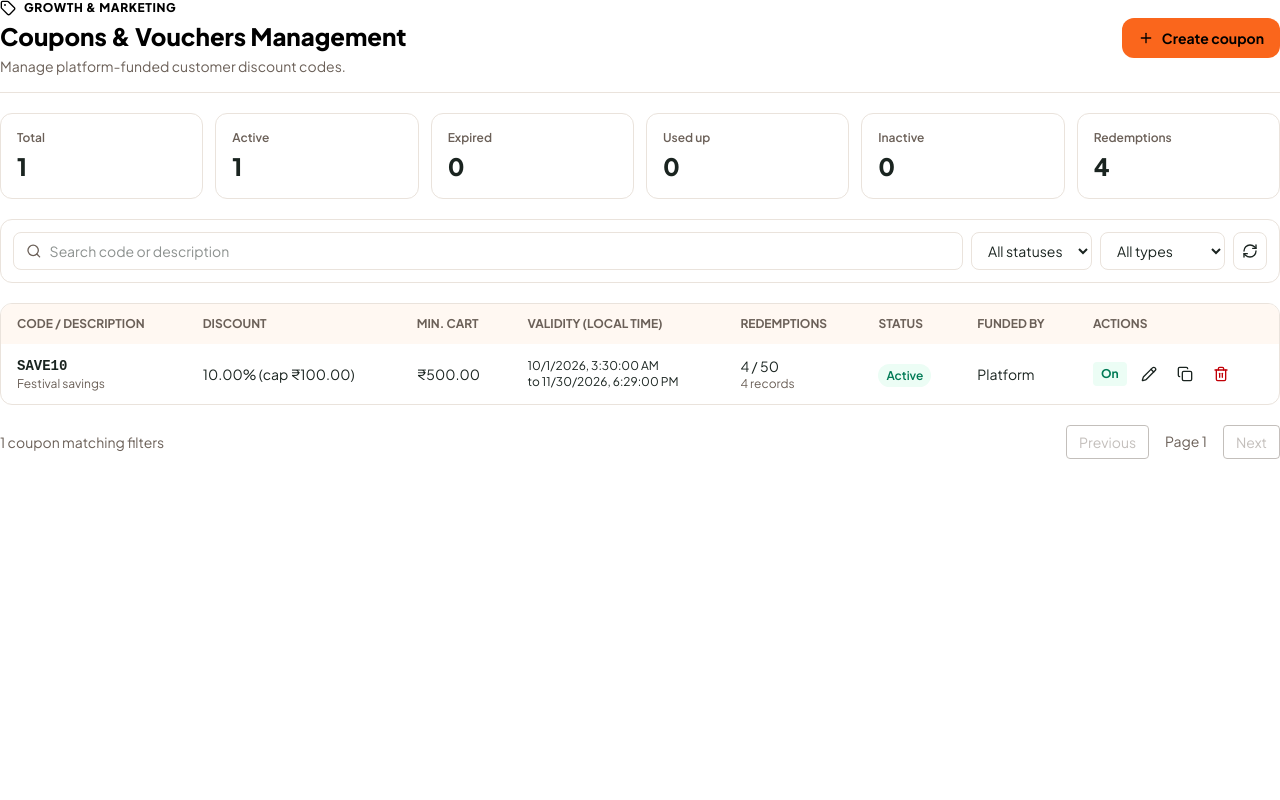
Test: CouponManagementModule › edits with writable fields only and excludes server-owned response fields
Click the button named "Edit SAVE10": (1148, 374) [1134,360,1162,388]
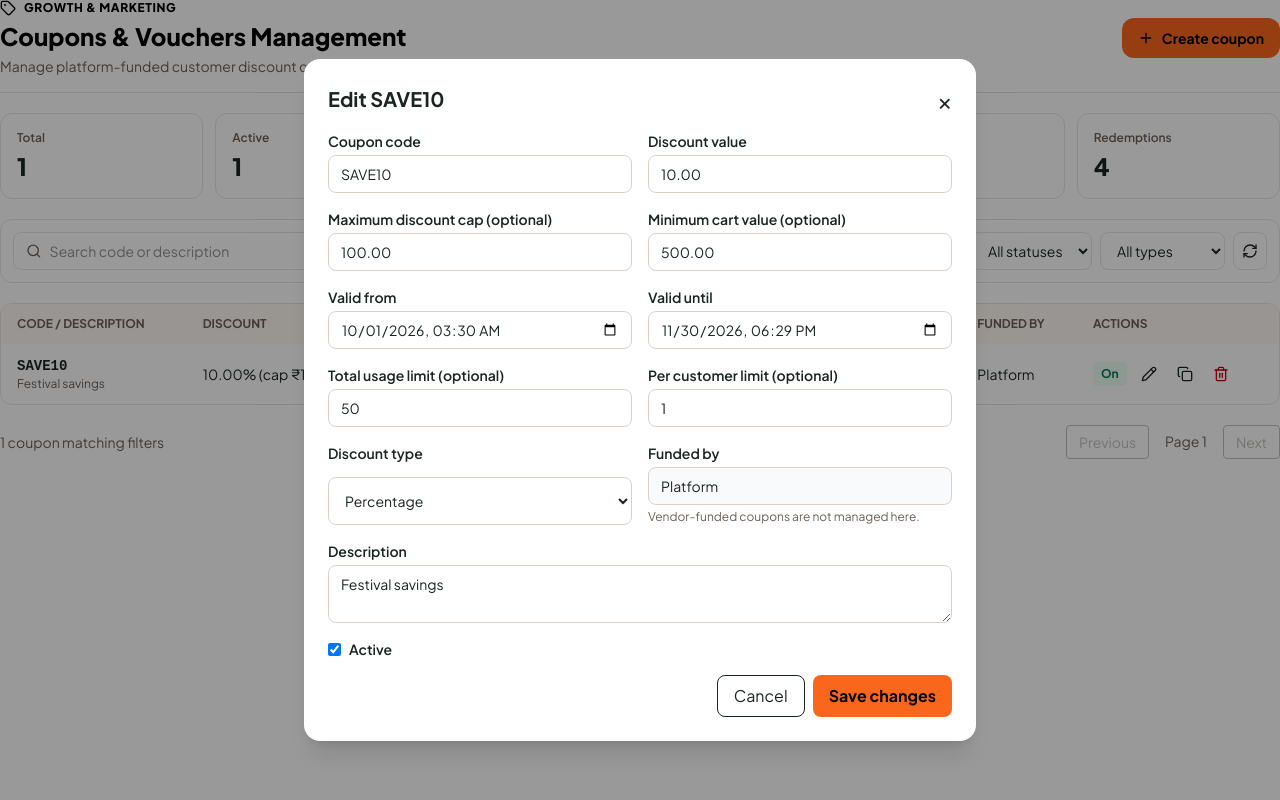
Replace the text in the text box labelled "Description" with "Updated offer": (640, 594) [328,565,952,623]
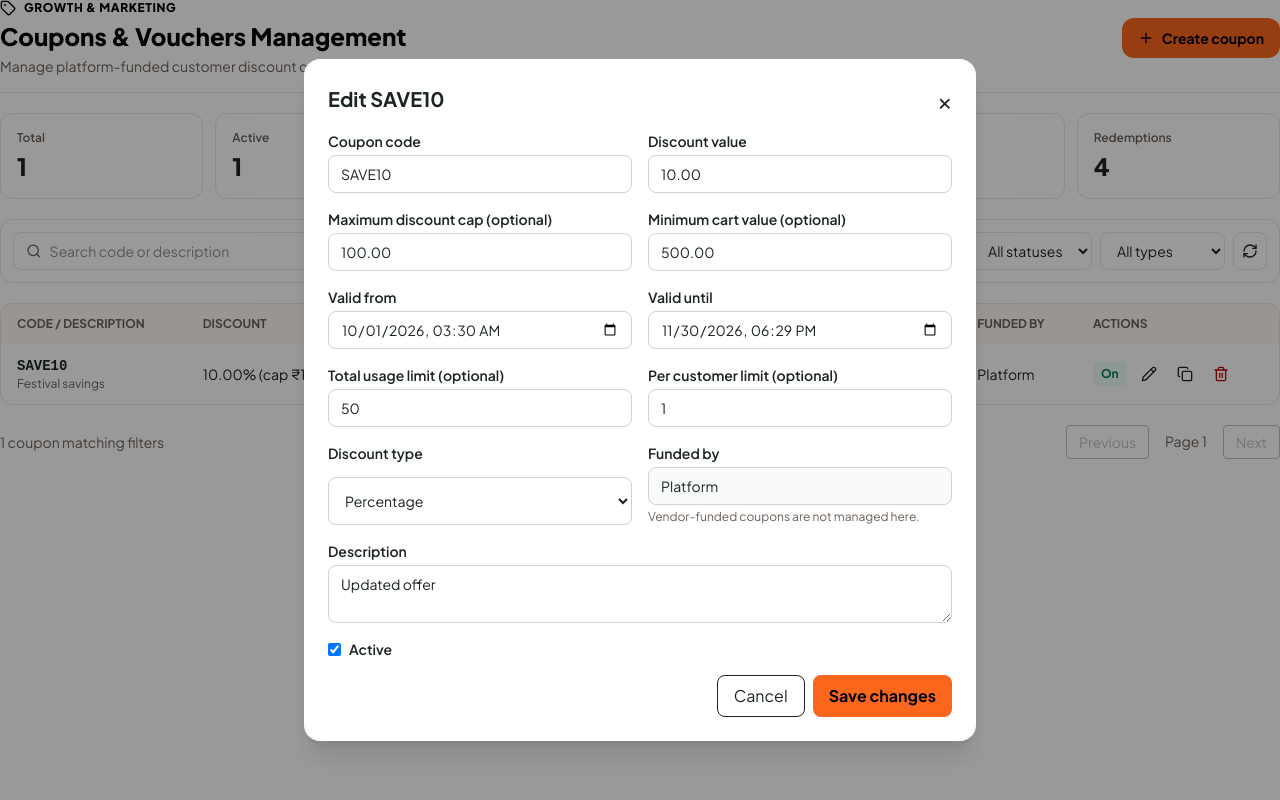
Click the button "Save changes": (882, 696) [813,675,952,717]
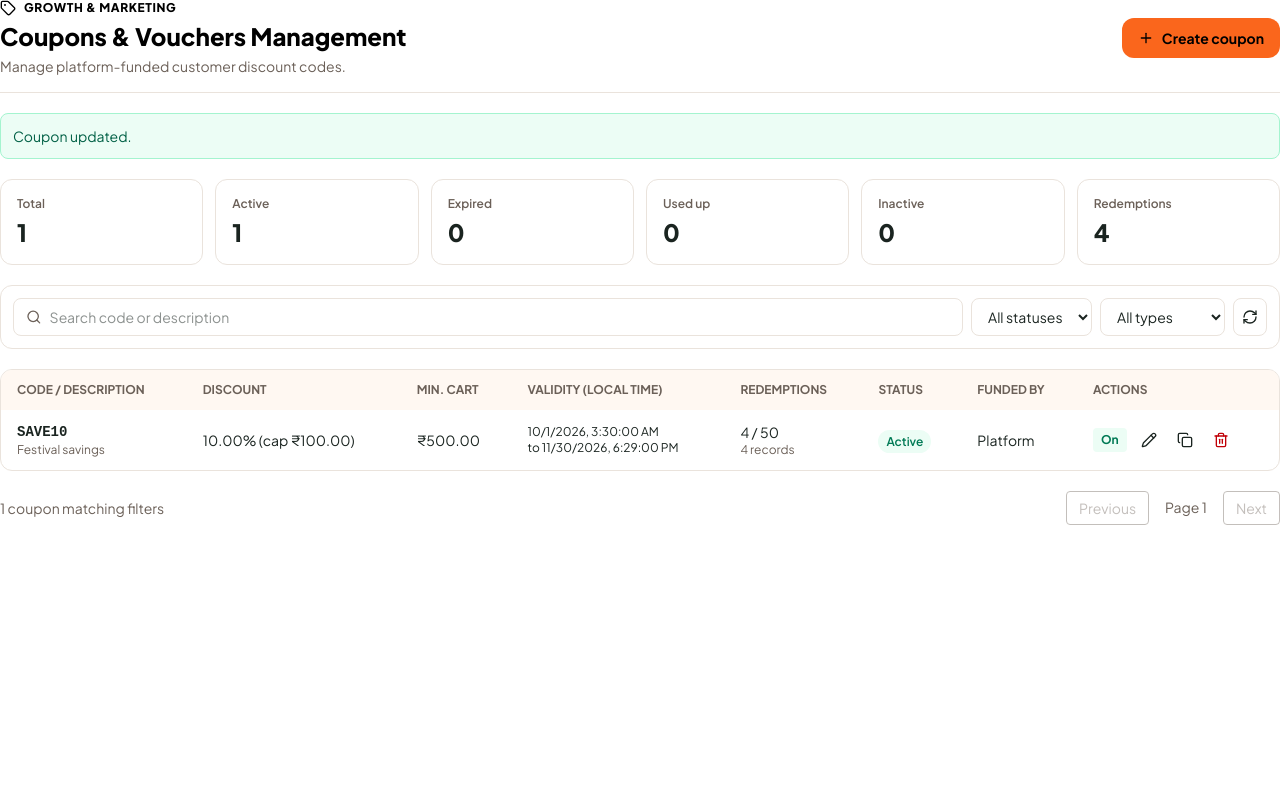
Expected: the text "Coupon updated." is shown, [0,113,1279,159]
